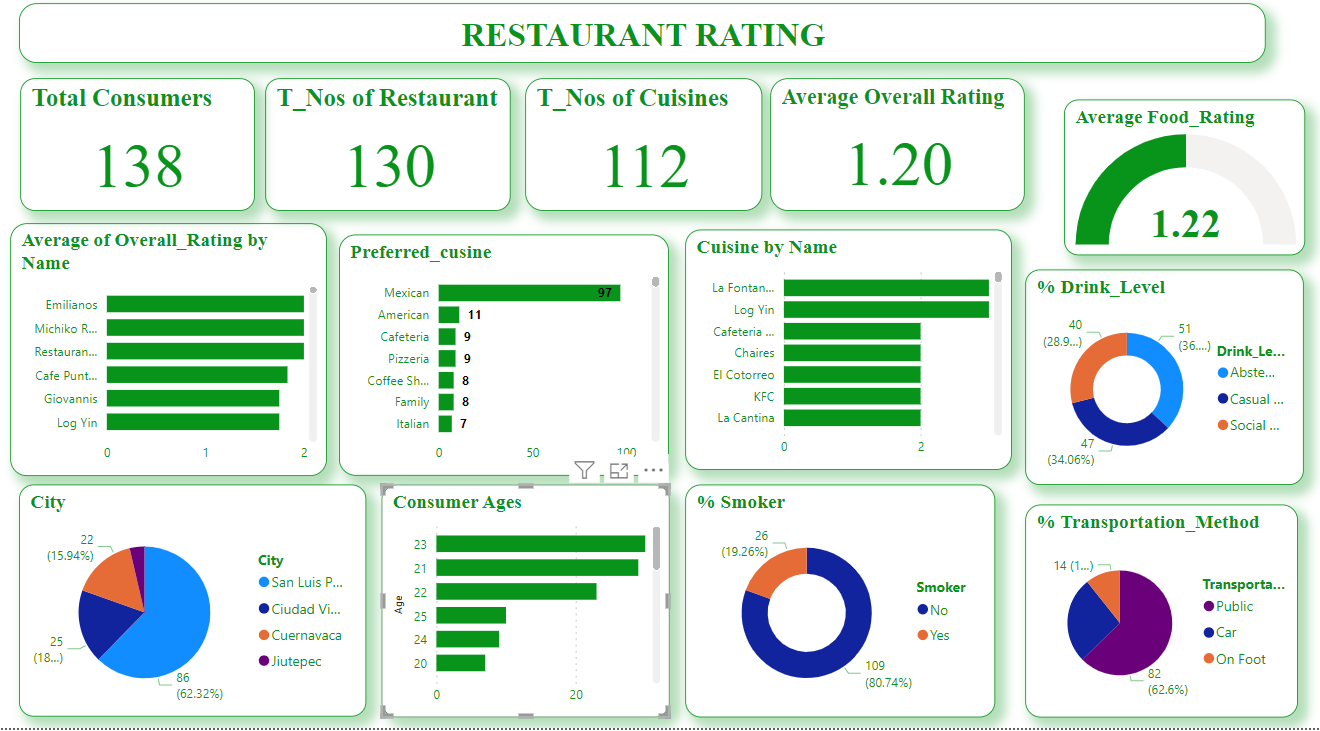

This screenshot's page, from the dashboard's own definition file:
{"tool":"powerbi","page":{"name":"analysis 1","canvas":[1280,720],"ordinal":0},"visuals":[{"type":"clusteredBarChart","fields":{"Category":["restaurants.Name"],"Y":["ratings.Overall_Rating"]},"box":[15.2,232.9,246.7,253.6],"z":0},{"type":"clusteredBarChart","title":"Preferred_cusine","fields":{"Y":["consumer_preferences.Preferred_cusine"],"Category":["consumer_preferences.Preferred_cusine"]},"box":[278.4,238.4,241.2,248.1],"z":1000},{"type":"pieChart","title":" City","fields":{"Category":["consumers.City"],"Y":["consumers.City"]},"box":[15.2,503,246.7,216.4],"z":2000},{"type":"clusteredBarChart","title":" Consumer Ages","fields":{"Category":["consumers.Age"],"Y":["consumers.Age"]},"box":[278.4,504.4,249.4,215],"z":3000},{"type":"donutChart","title":"%  Smoker","fields":{"Category":["consumers.Smoker"],"Y":["consumers.Smoker"]},"box":[543,505.8,238.4,213.6],"z":4000},{"type":"donutChart","title":"% Drink_Level","fields":{"Y":["consumers.Drink_Level"],"Category":["consumers.Drink_Level"]},"box":[1047.4,277,216.4,209.5],"z":5000},{"type":"pieChart","title":"% Transportation_Method","fields":{"Category":["consumers.Transportation_Method"],"Y":["consumers.Transportation_Method"]},"box":[1047.4,504.4,217.7,205.3],"z":6000},{"type":"clusteredBarChart","title":"Cuisine by Name","fields":{"Category":["restaurants.Name"],"Y":["restaurant_cuisines.Cuisine"]},"box":[536.1,243.9,249.4,242.6],"z":7000},{"type":"textbox","box":[24.7,20.6,1203.4,57.6],"z":8000},{"type":"card","title":"T_Nos of Restaurant","fields":{"Values":["consumer_preferences.Number_of_restuarant"]},"box":[261.8,92.3,237,128.2],"z":9000},{"type":"card","title":"T_Nos of Cuisines","fields":{"Values":["consumer_preferences.Number_of_cusines"]},"box":[512.7,92.3,228.8,128.2],"z":10000},{"type":"card","title":"Total Consumers","fields":{"Values":["consumers.Consumer_ID"]},"box":[24.8,92.3,226,128.2],"z":11000},{"type":"card","title":"Average Overall Rating","fields":{"Values":["ratings.Overall_Rating"]},"box":[749.7,92.3,245.3,128.2],"z":12000},{"type":"gauge","title":"Average Food_Rating","fields":{"Y":["ratings.Food_Rating"]},"box":[1032.2,113,232.9,150.2],"z":13000},{"type":"pieChart","title":"% Occupation","fields":{"Y":["consumers.Occupation"],"Category":["consumers.Occupation"]},"box":[799.3,505.8,232.9,206.7],"z":14000},{"type":"pieChart","title":"% Children","fields":{"Category":["consumers.Children"],"Y":["consumers.Children"]},"box":[811.9,277.5,205.1,208.7],"z":15000}]}

Visuals, with their boxes in screenshot pixels (x1, y1, x2, y2), scaled from the page's 1280x720 canvas onto the 1320x731 screenshot:
clusteredBarChart - restaurants.Name x ratings.Overall_Rating: x1=16 y1=236 x2=270 y2=494
"Preferred_cusine" clusteredBarChart: x1=287 y1=242 x2=536 y2=494
" City" pieChart: x1=16 y1=511 x2=270 y2=730
" Consumer Ages" clusteredBarChart: x1=287 y1=512 x2=544 y2=730
"%  Smoker" donutChart: x1=560 y1=514 x2=806 y2=730
"% Drink_Level" donutChart: x1=1080 y1=281 x2=1303 y2=494
"% Transportation_Method" pieChart: x1=1080 y1=512 x2=1305 y2=721
"Cuisine by Name" clusteredBarChart: x1=553 y1=248 x2=810 y2=494
textbox: x1=25 y1=21 x2=1266 y2=79
"T_Nos of Restaurant" card: x1=270 y1=94 x2=514 y2=224
"T_Nos of Cuisines" card: x1=529 y1=94 x2=765 y2=224
"Total Consumers" card: x1=26 y1=94 x2=259 y2=224
"Average Overall Rating" card: x1=773 y1=94 x2=1026 y2=224
"Average Food_Rating" gauge: x1=1064 y1=115 x2=1305 y2=267
"% Occupation" pieChart: x1=824 y1=514 x2=1064 y2=723
"% Children" pieChart: x1=837 y1=282 x2=1049 y2=494
